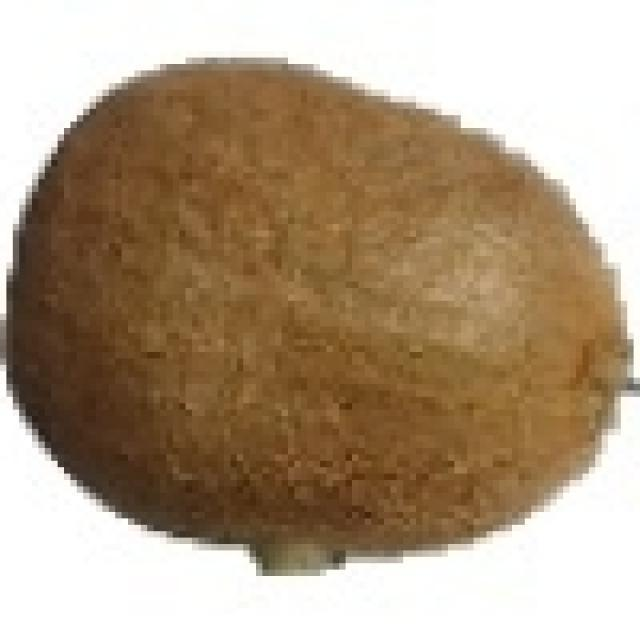kiwi: (19, 51, 634, 557)
